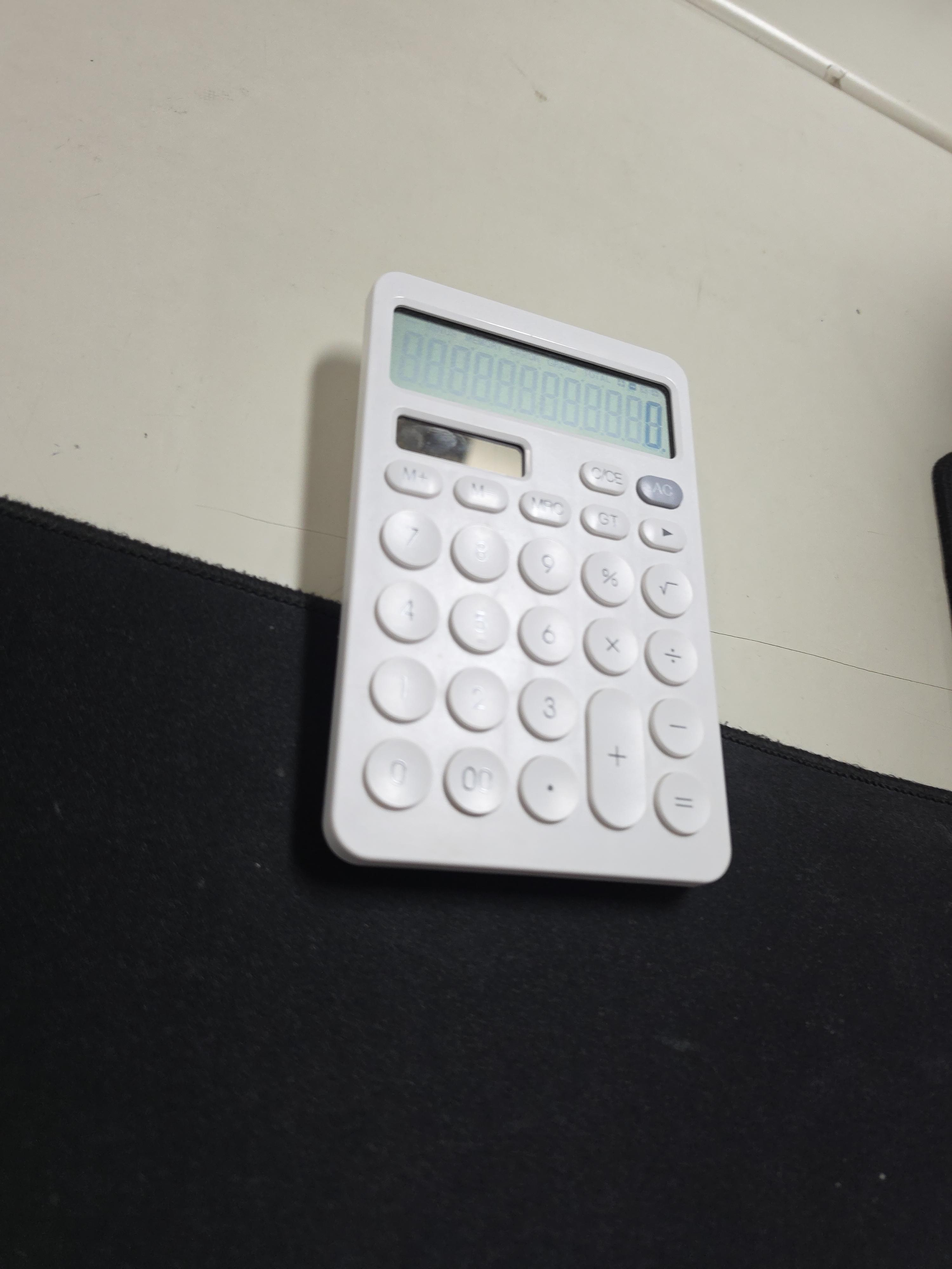calculator: (322, 271, 733, 888)
